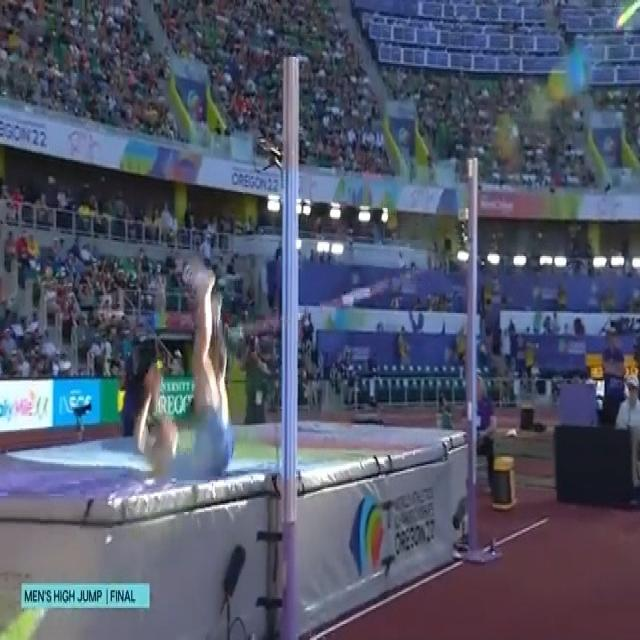land: (135, 254, 235, 474)
